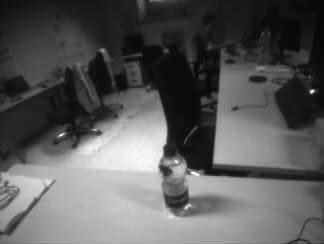Bottle: (160, 146, 190, 213)
